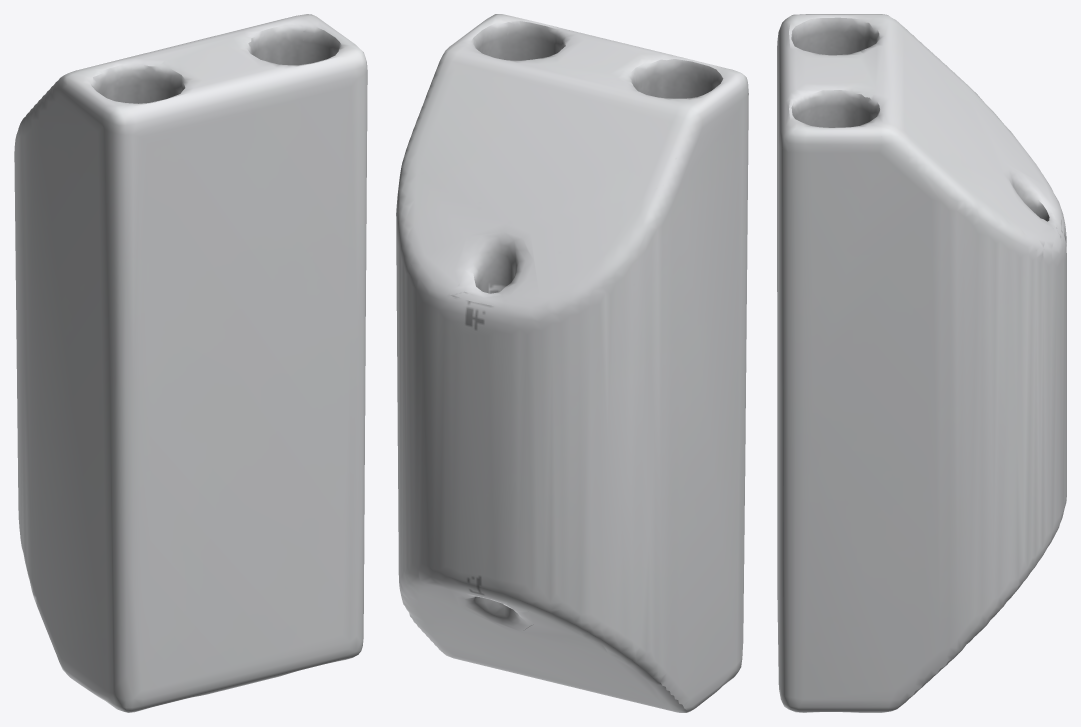
The model's file is left_finger2_lower.glb.
3 renders of one model, left to right at view 1: azimuth 30°, elevation 25°; view 2: azimuth 150°, elevation 25°; view 3: azimuth 270°, elevation 25°, orthographic. The views are drawn at different scales.
Parts seen in each view (by area): view 1: left_finger2_lower; view 2: left_finger2_lower; view 3: left_finger2_lower.
Boxes of the visible parts, x1,y1,x2,y2 form: left_finger2_lower: (14,14,367,712); left_finger2_lower: (396,14,748,712); left_finger2_lower: (777,14,1066,712).
Bounding box in the file's own units: 0.0125 × 0.028 × 0.0125.
Materials: 1 (1 with a texture image).
